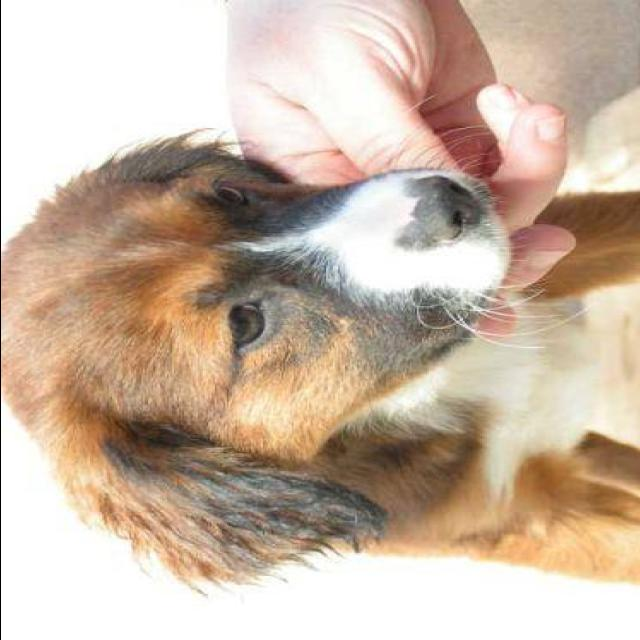dog: (0, 121, 640, 600)
